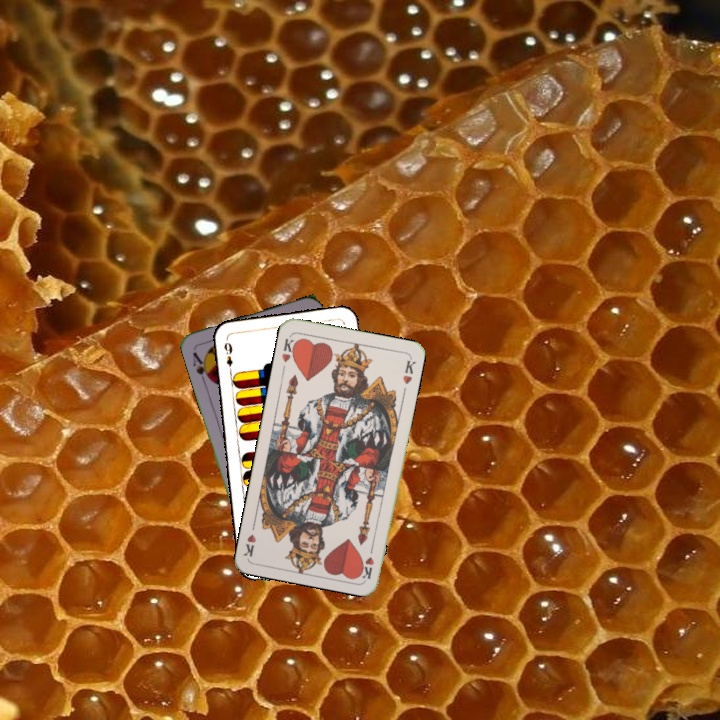E9: (220, 338, 235, 376)
HK: (358, 540, 377, 581), (278, 332, 300, 365)
SA: (189, 348, 214, 386)
